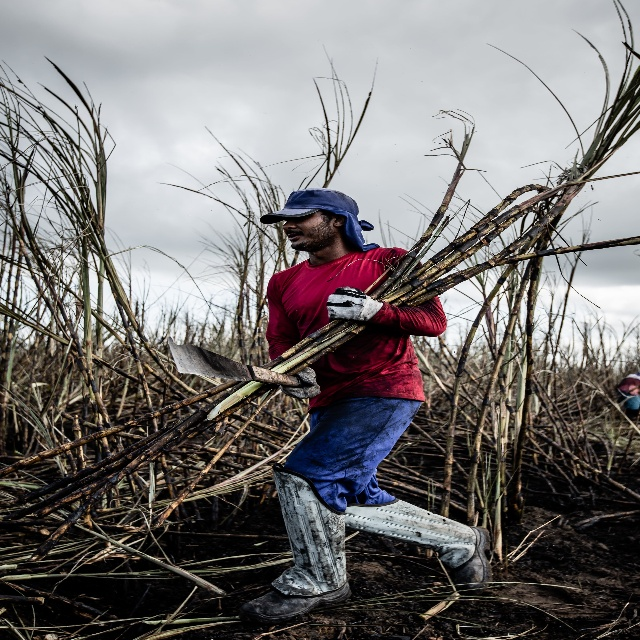Guantes: (325, 286, 383, 325), (279, 364, 320, 400)
